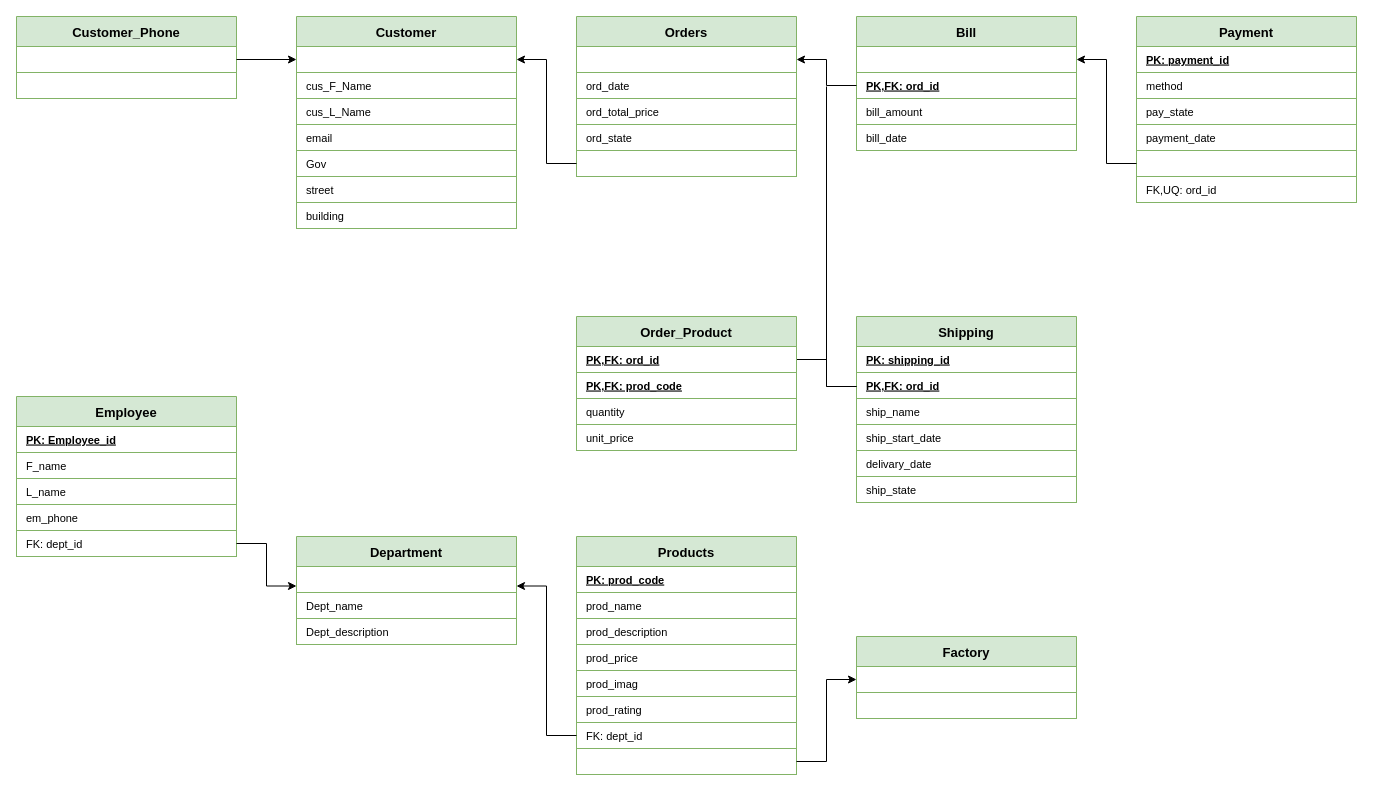
The diagram is 1373 pixels wide and 791 high, and some of its shapes have lost their labels. The centre of each missing label's shape, as x and y in pixels:
Factory_name: the point at 966,705
FK: bill_id: the point at 1246,163
FK: customer_id: the point at 686,163
FK: factory_id: the point at 686,761
PK,FK: Customer_id: the point at 126,59
PK: bill_id: the point at 966,59
PK: cus_phone: the point at 126,85
PK: Customer_id: the point at 406,59
PK: Dept_id: the point at 406,579
PK: Factory_id: the point at 966,679
PK: order_id: the point at 686,59
